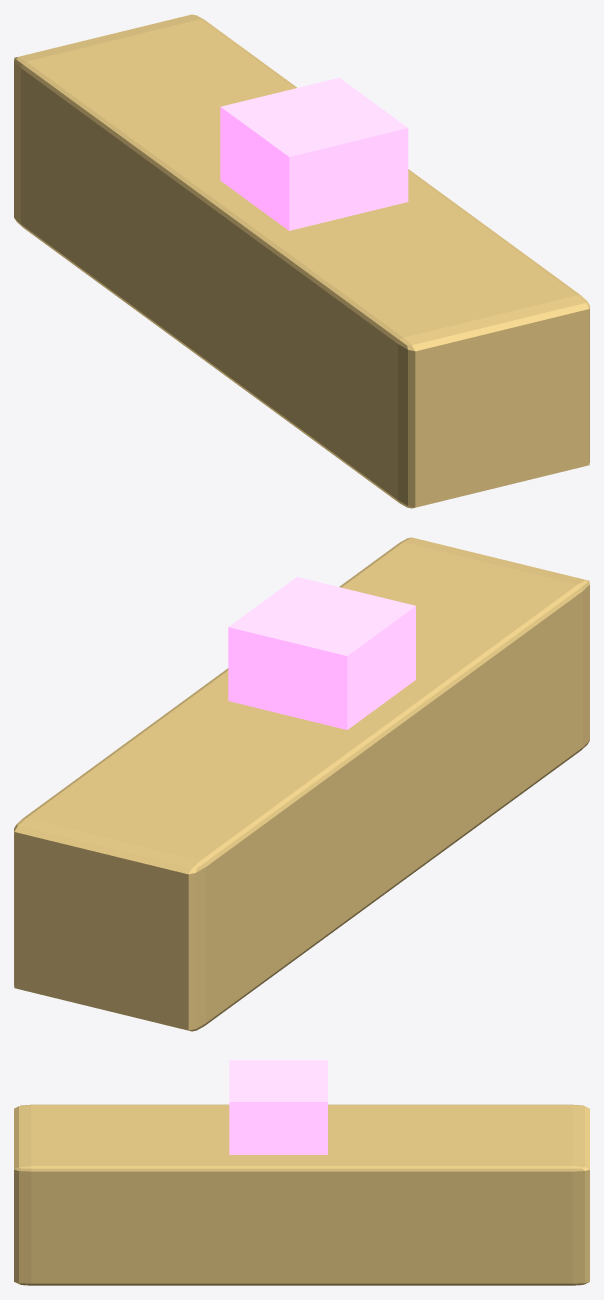
Rendered from SM_Keeper_OverlordEcho_Frag4.fbx.
The picture shows the model from 3 angles, top to bottom: view 1: azimuth 30°, elevation 25°; view 2: azimuth 150°, elevation 25°; view 3: azimuth 270°, elevation 25°; orthographic projection. The views are drawn at different scales.
Visible parts, largest first — view 1: SM_Keeper_OverlordEcho_Frag4; view 2: SM_Keeper_OverlordEcho_Frag4; view 3: SM_Keeper_OverlordEcho_Frag4.
Boxes of the visible parts, left/top/right/bottom form: SM_Keeper_OverlordEcho_Frag4: left=14, top=14, right=589, bottom=508; SM_Keeper_OverlordEcho_Frag4: left=14, top=537, right=589, bottom=1031; SM_Keeper_OverlordEcho_Frag4: left=14, top=1060, right=589, bottom=1285.
Bounding box in the file's own units: 1.56 × 1.93 × 5.83.
